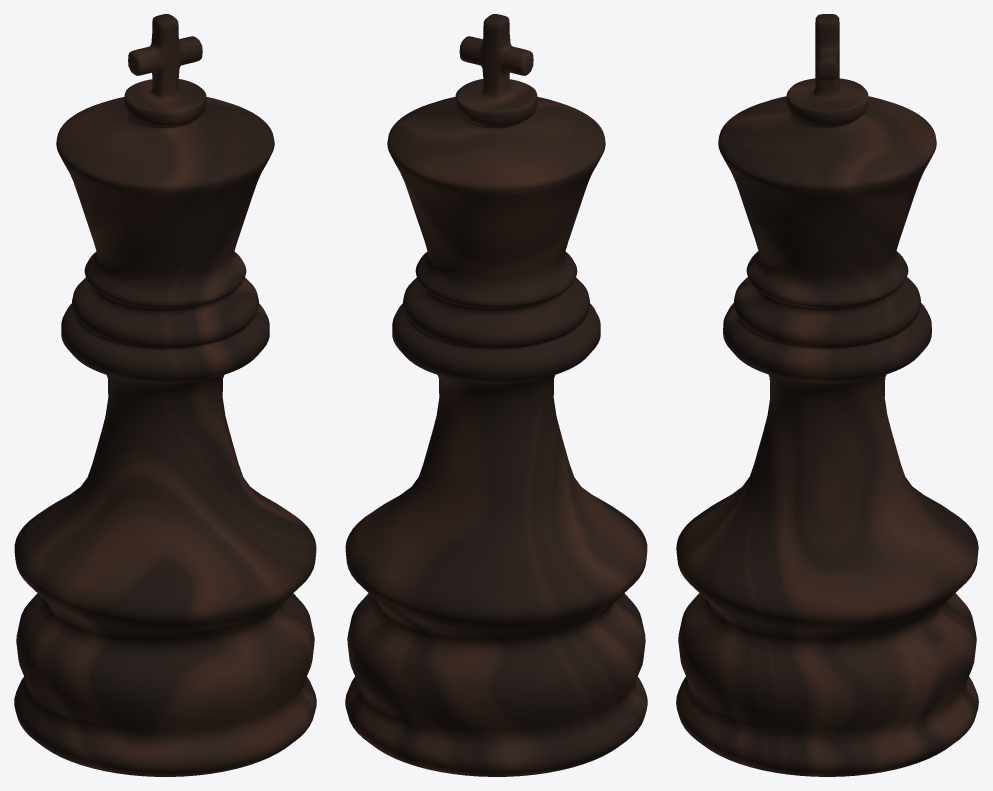
Rendered from blackKing.fbx.
3 views of the same model, side by side, from view 1: azimuth 30°, elevation 25°; view 2: azimuth 150°, elevation 25°; view 3: azimuth 270°, elevation 25° (orthographic).
Parts seen in each view (by area): view 1: blackKing; view 2: blackKing; view 3: blackKing.
Boxes of the visible parts, x1,y1,x2,y2 form: blackKing: (14,14,316,776); blackKing: (345,14,647,776); blackKing: (676,14,978,776).
Size of the model in its own units: 70.4 by 182 by 70.4.
Materials: 1 (1 with a texture image).
